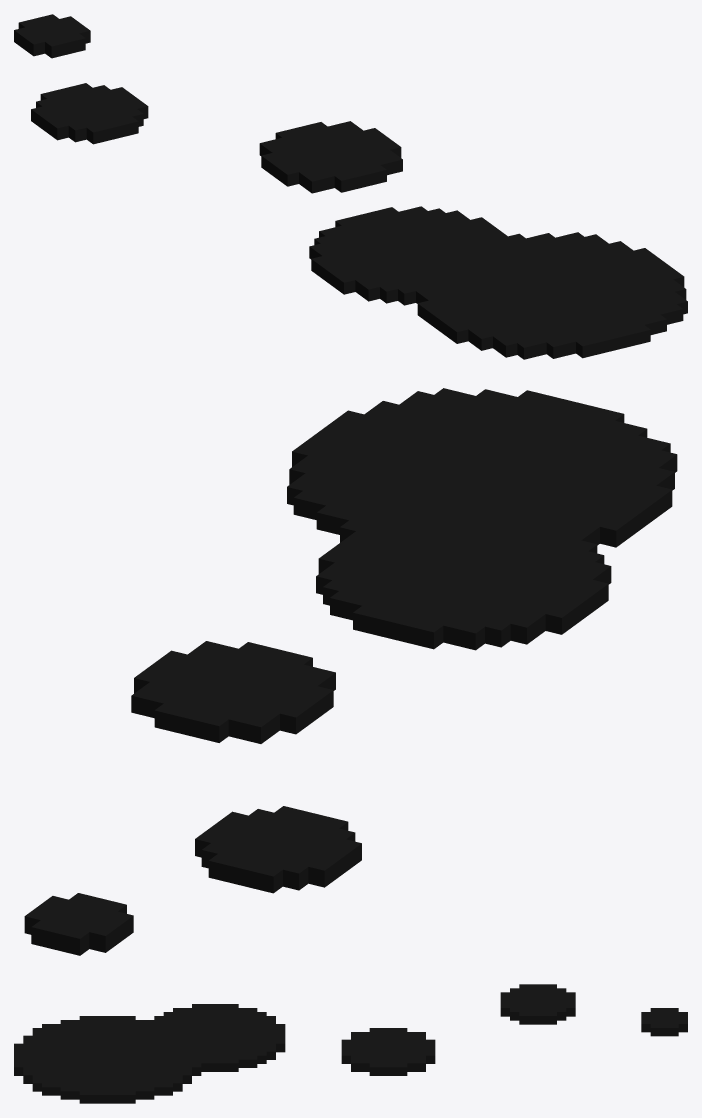
File: debris1-3-oilSmall.obj
The picture shows the model from 3 angles, top to bottom: view 1: azimuth 30°, elevation 25°; view 2: azimuth 150°, elevation 25°; view 3: azimuth 270°, elevation 25°; orthographic projection. The views are drawn at different scales.
Visible parts, largest first — view 1: oilSmall; view 2: oilSmall; view 3: oilSmall.
Part boxes in pixels (x1,y1,x2,y2): oilSmall: (14, 14, 687, 359); oilSmall: (24, 388, 677, 955); oilSmall: (14, 984, 687, 1103).
Bounding box in the file's own units: 2.8 × 0.1 × 7.2.
Materials: 1 (1 with a texture image).
